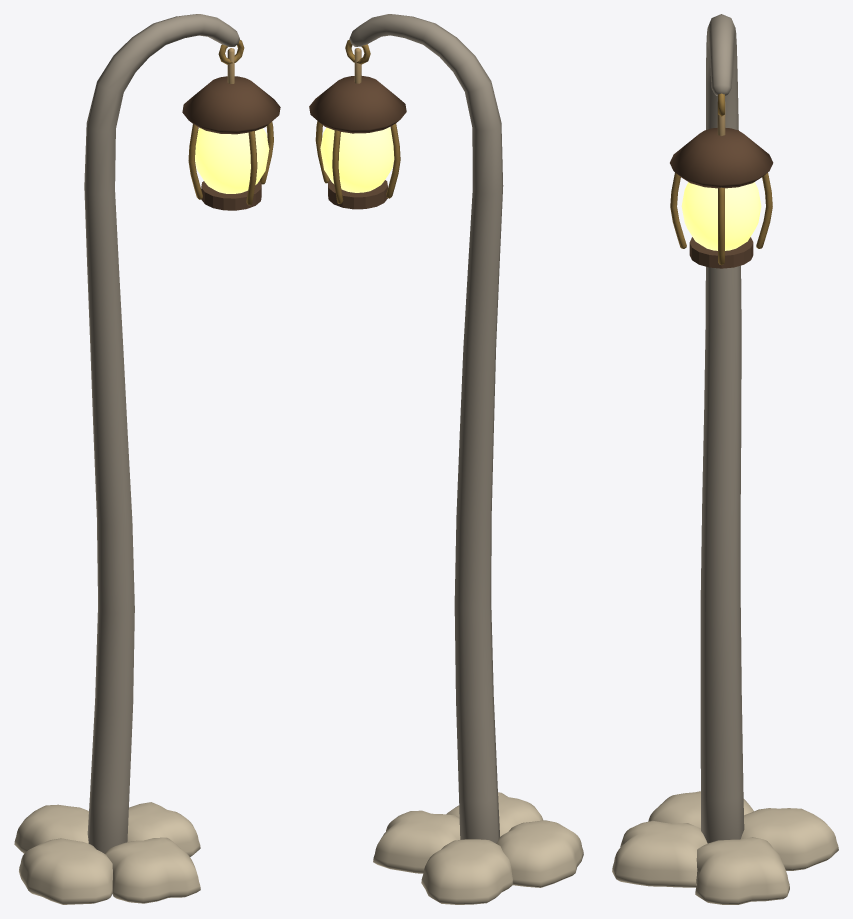
File: sh_lantern_pole.fbx
3 renders of one model, left to right at view 1: azimuth 30°, elevation 25°; view 2: azimuth 150°, elevation 25°; view 3: azimuth 270°, elevation 25°, orthographic. The views are drawn at different scales.
Visible parts, largest first — view 1: SH_Lantern_Pole; view 2: SH_Lantern_Pole; view 3: SH_Lantern_Pole.
Part boxes in pixels (bbox=[...]): SH_Lantern_Pole: bbox=[14, 14, 280, 904]; SH_Lantern_Pole: bbox=[309, 14, 583, 904]; SH_Lantern_Pole: bbox=[612, 14, 838, 904].
Bounding box in the file's own units: 15.39 × 49.22 × 11.37.
